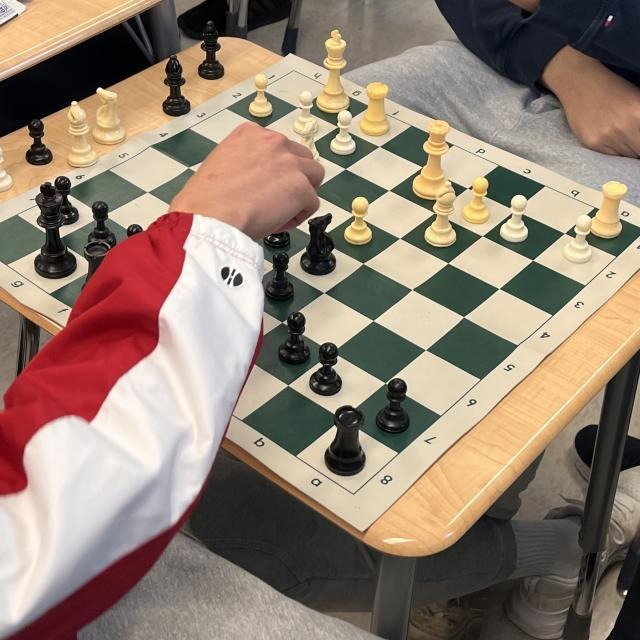black-bishop: (163, 51, 192, 117), (199, 18, 225, 81)
black-king: (33, 182, 71, 286)
black-knight: (303, 209, 338, 278)
black-pawn: (262, 236, 294, 316), (307, 344, 341, 412), (374, 376, 410, 436), (279, 308, 310, 372), (48, 174, 80, 226), (84, 199, 117, 248), (23, 115, 51, 167)
black-rook: (328, 401, 370, 483)
white-bishop: (424, 179, 459, 249), (65, 100, 96, 168)
white-king: (322, 27, 350, 112)
white-knight: (95, 85, 125, 146)
white-pawn: (499, 195, 532, 243), (342, 196, 373, 245), (462, 175, 492, 225), (563, 214, 592, 263), (330, 109, 357, 155), (293, 88, 317, 136), (251, 71, 272, 118)
white-queen: (413, 119, 452, 201)
white-rook: (590, 180, 625, 239), (361, 80, 389, 136)
